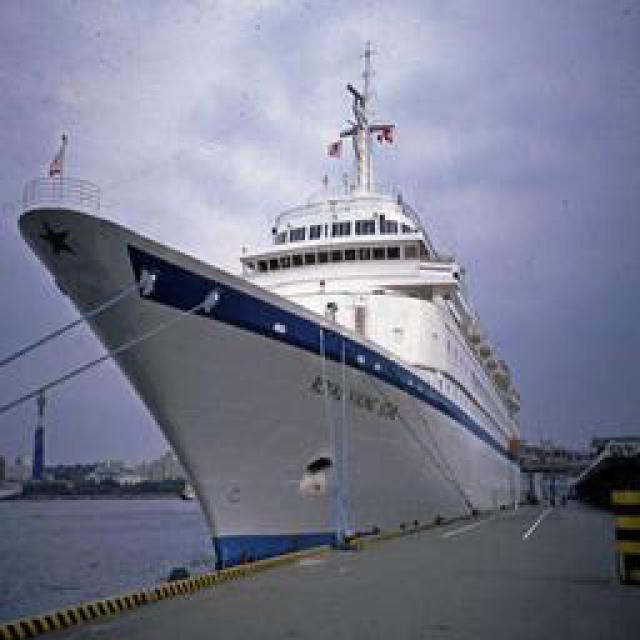Ship: (8, 135, 526, 560)
